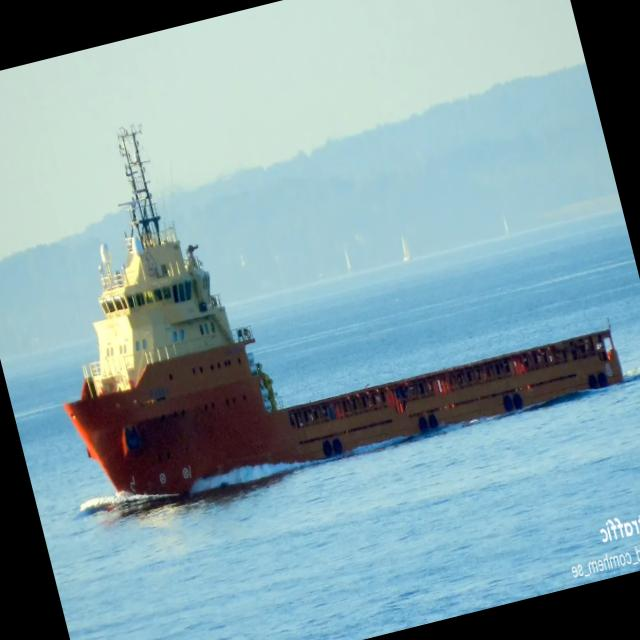Offshore: (64, 128, 623, 495)
